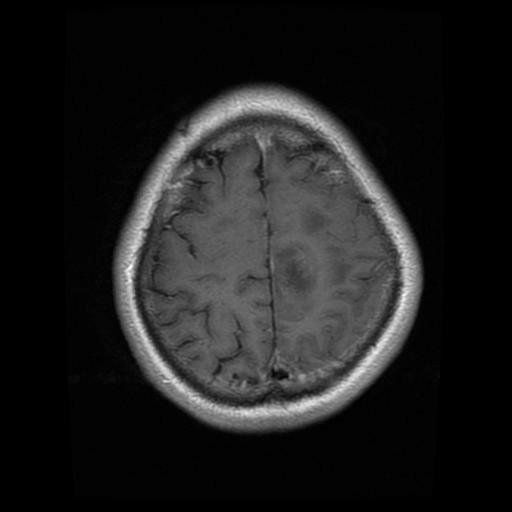Tumour-Glioma: (272, 241, 345, 316)
